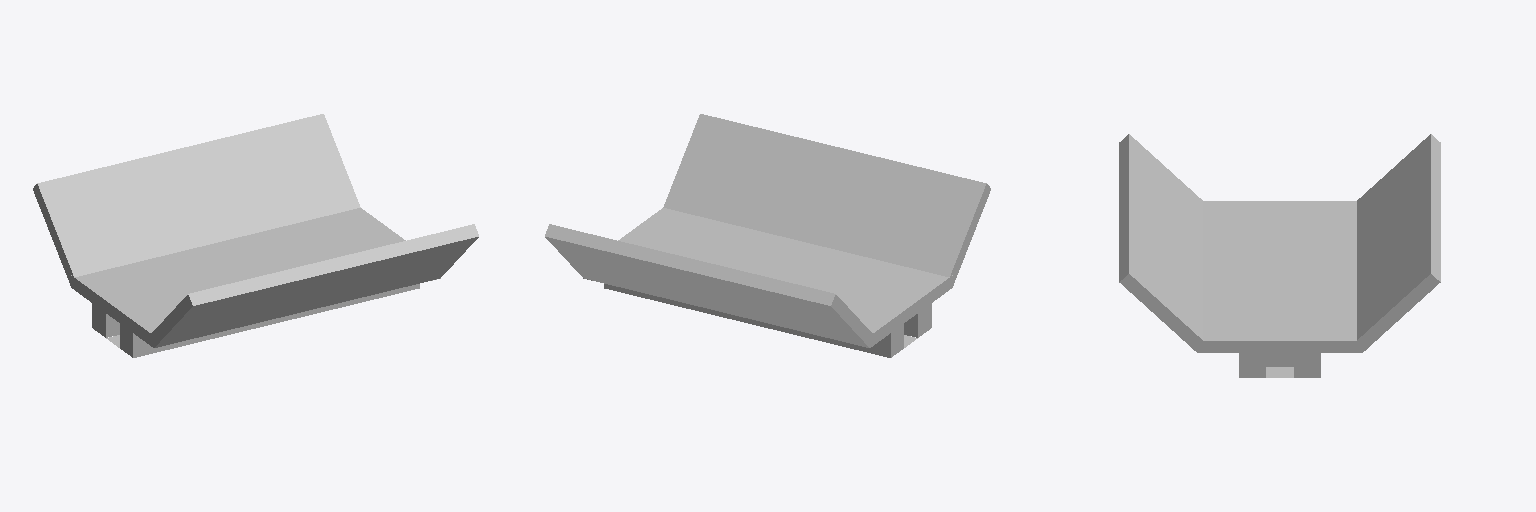
Rendered from solar_reflector_mirror.obj.
The picture shows the model from 3 angles: view 1: azimuth 30°, elevation 25°; view 2: azimuth 150°, elevation 25°; view 3: azimuth 270°, elevation 25°; orthographic projection.
Parts seen in each view (by area): view 1: mirror; view 2: mirror; view 3: mirror.
Part boxes in pixels (left/top/right/bottom): mirror: left=33, top=114, right=478, bottom=357; mirror: left=545, top=114, right=990, bottom=357; mirror: left=1119, top=134, right=1440, bottom=377.
Size of the model in its own units: 3 by 1.05 by 2.91.